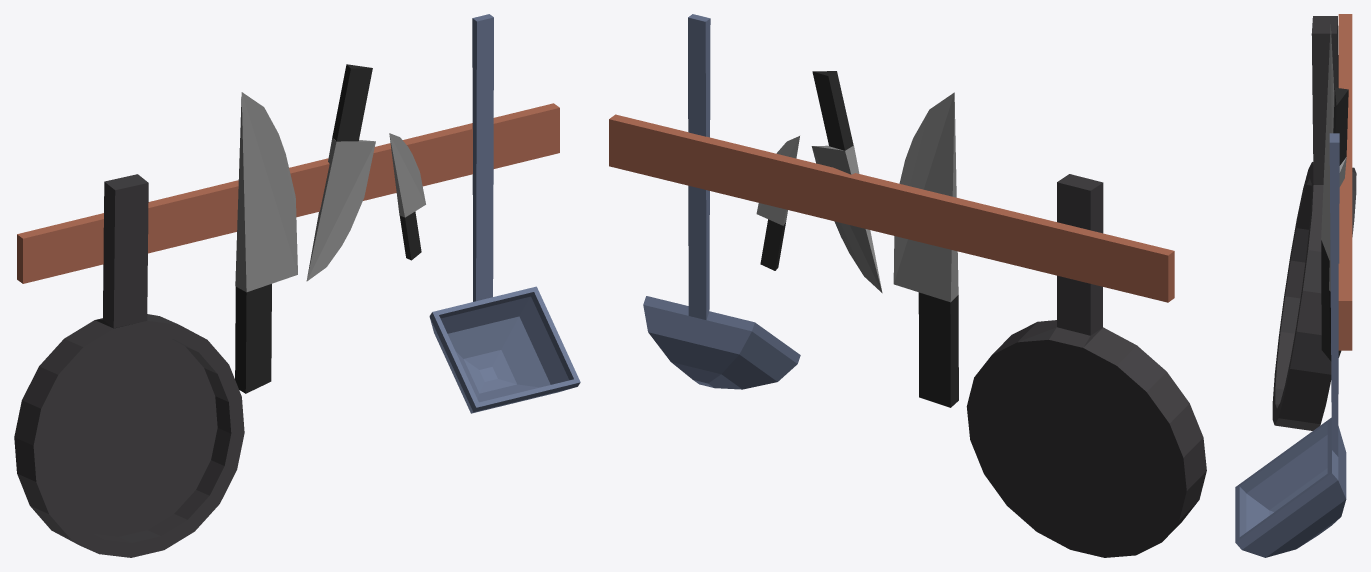
The model's file is kniferack.fbx.
The picture shows the model from 3 angles, left to right: view 1: azimuth 30°, elevation 25°; view 2: azimuth 150°, elevation 25°; view 3: azimuth 270°, elevation 25°; orthographic projection. The views are drawn at different scales.
Parts seen in each view (by area): view 1: magneticshelf; view 2: magneticshelf; view 3: magneticshelf.
Boxes of the visible parts, left/top/right/bottom form: magneticshelf: left=14, top=14, right=580, bottom=557; magneticshelf: left=609, top=14, right=1206, bottom=557; magneticshelf: left=1235, top=14, right=1356, bottom=557.
Size of the model in its own units: 145 by 110 by 25.42.
